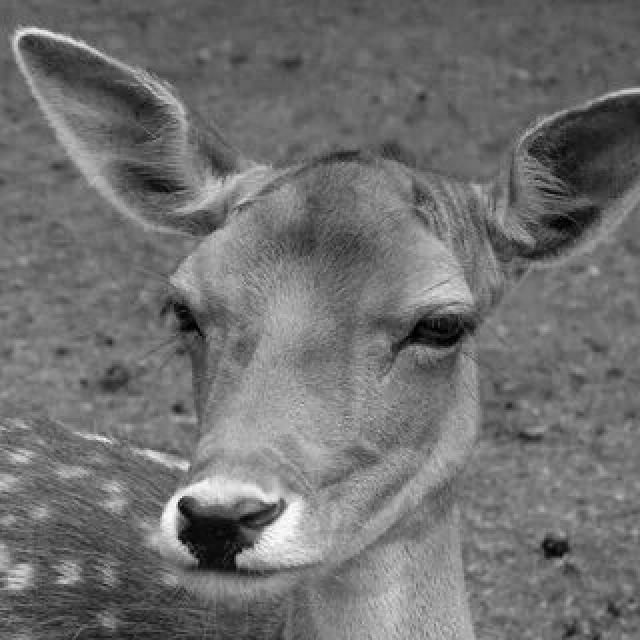Deer: (1, 9, 640, 638)
